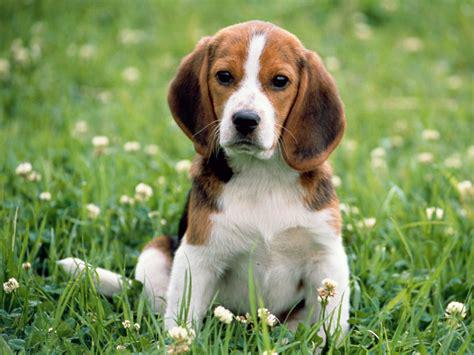dog: (58, 20, 348, 344)
